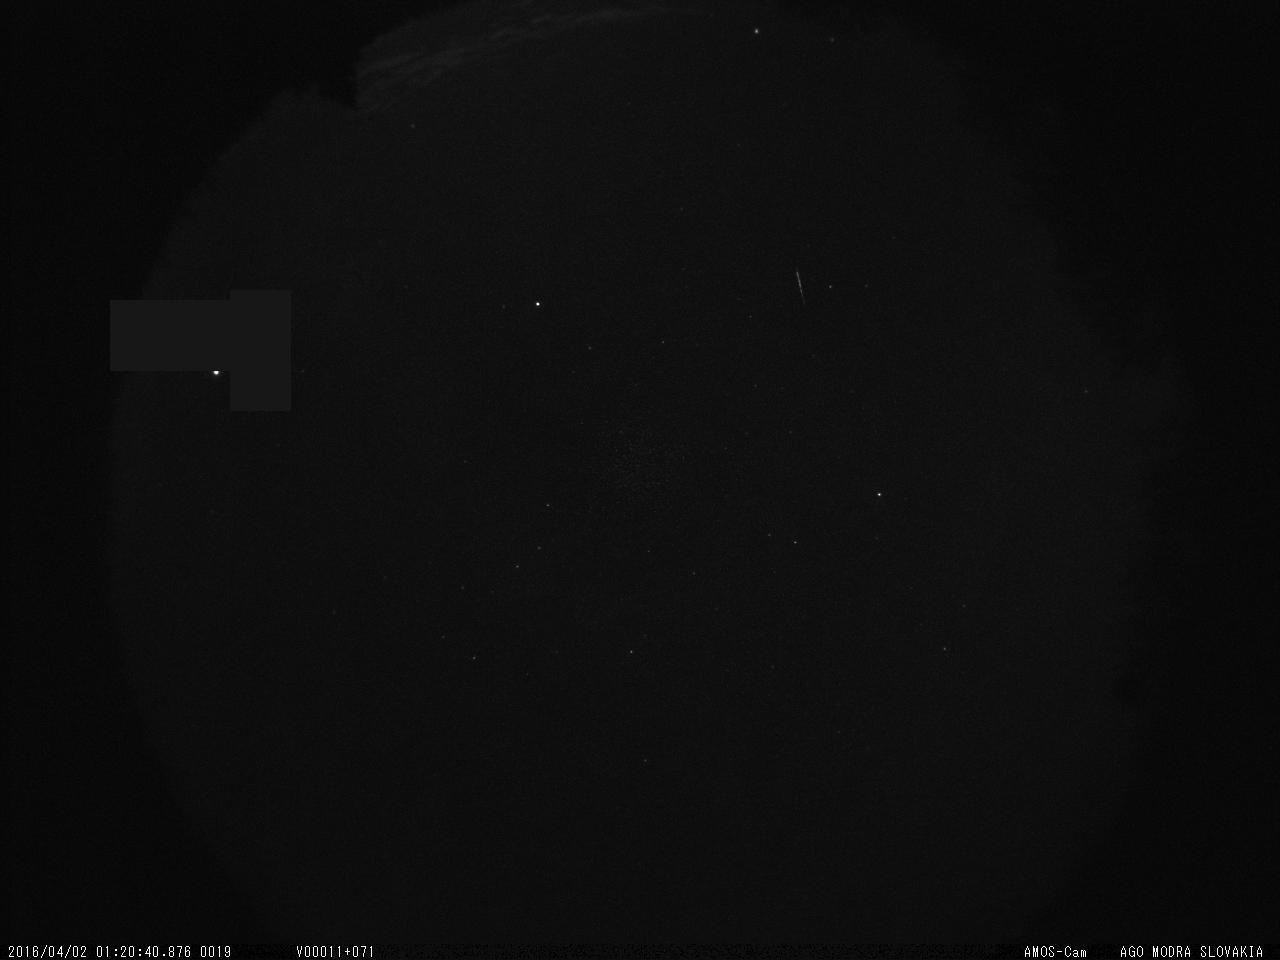meteor: (785, 261, 816, 314)
